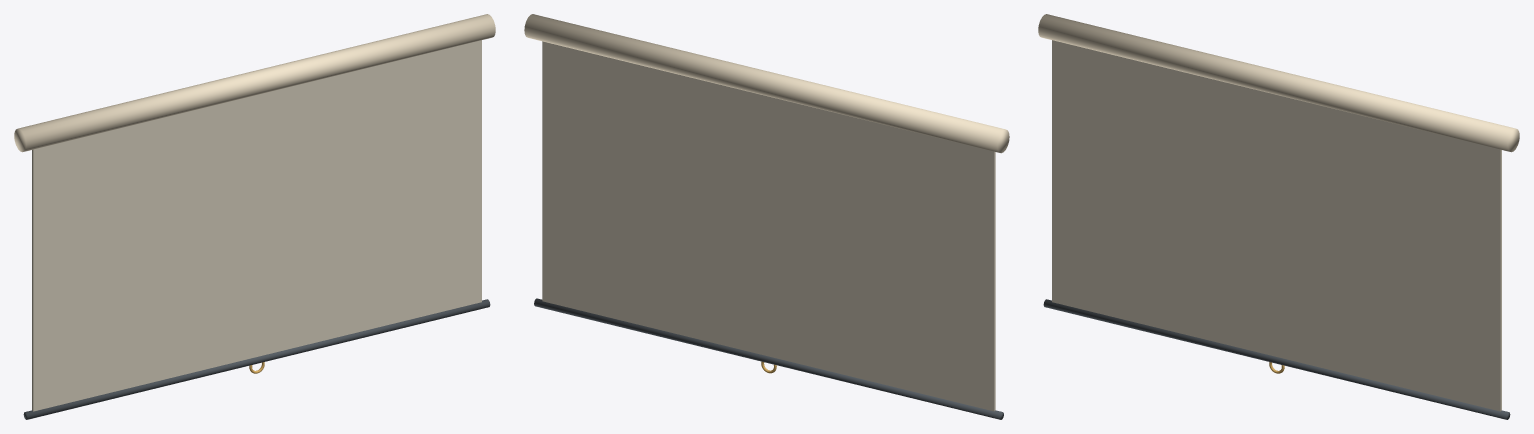
File: projection-screen.glb
3 renders of one model, left to right at view 1: azimuth 30°, elevation 25°; view 2: azimuth 150°, elevation 25°; view 3: azimuth 330°, elevation 25°, orthographic.
Visible parts, largest first — view 1: projection_screen; view 2: projection_screen; view 3: projection_screen.
Part boxes in pixels (x1,y1,x2,y2): projection_screen: (14,14,495,419); projection_screen: (524,14,1009,419); projection_screen: (1038,14,1519,419).
Size of the model in its own units: 3.35 by 2.04 by 0.15.
